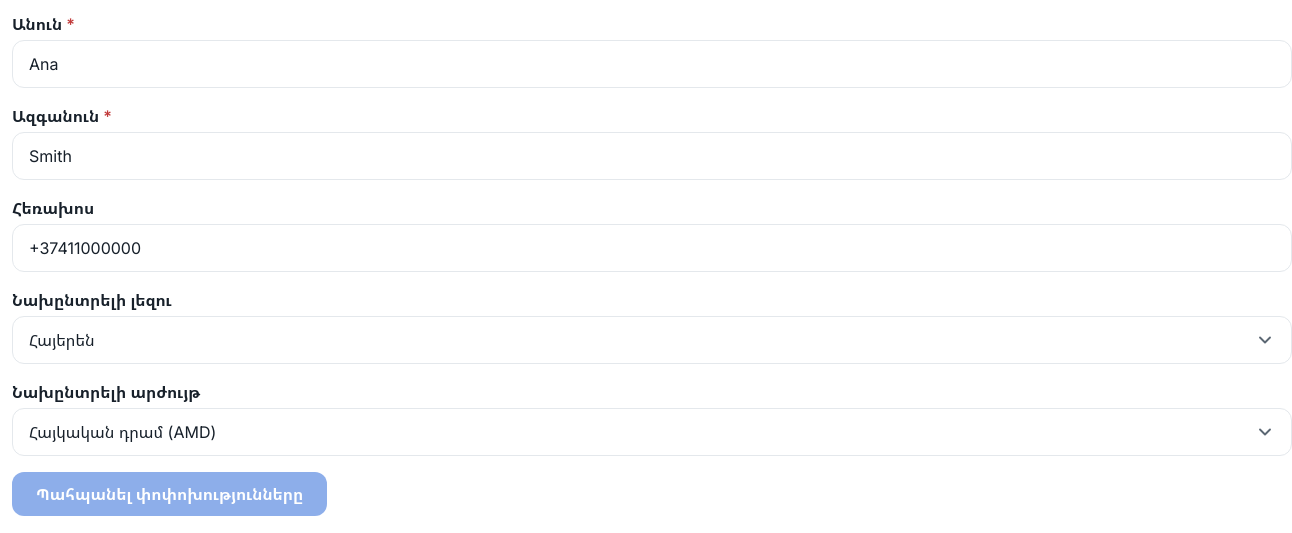
Test case: ProfileForm (apps/web/src/modules/profile) › the save button is disabled until a field changes
Expected: the button "Պահպանել փոփոխությունները" is disabled, [12,472,327,516]
In the field labelled "Անուն *": (652, 64) [29,41,1275,87], type "x"
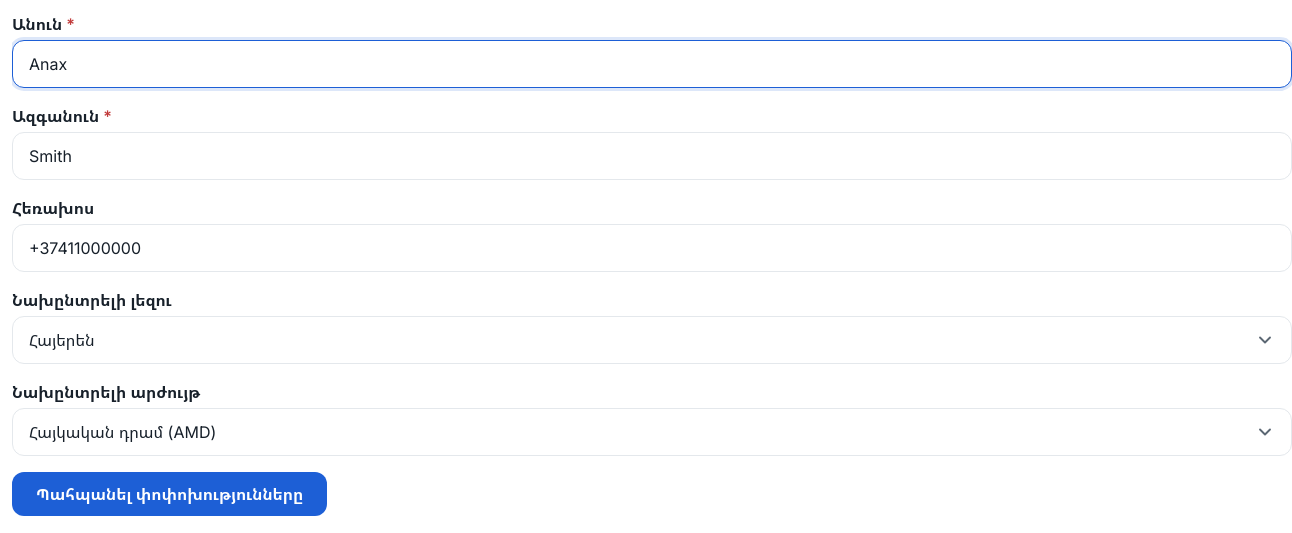
Result: the button "Պահպանել փոփոխությունները" is enabled at [12,472,327,516]
